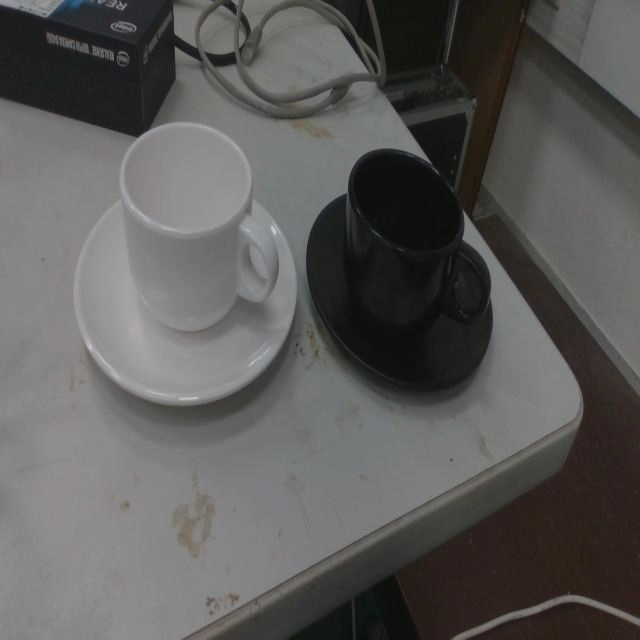black: (305, 145, 494, 400)
white: (70, 115, 301, 415)
